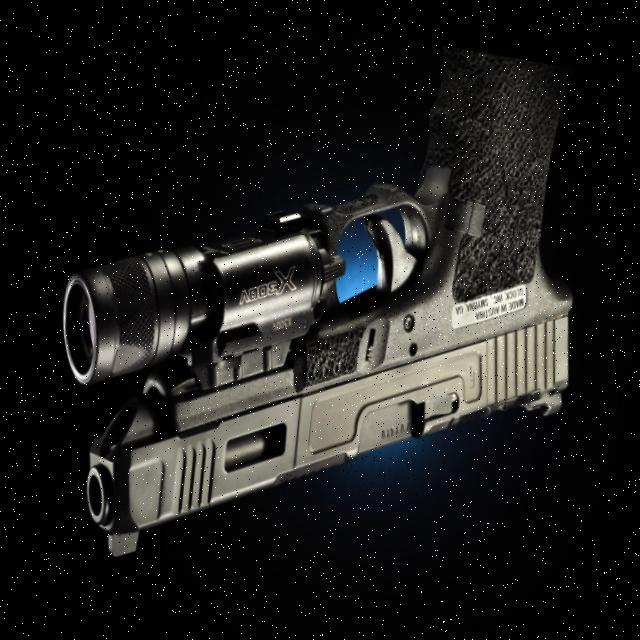pistol: (30, 2, 607, 629)
